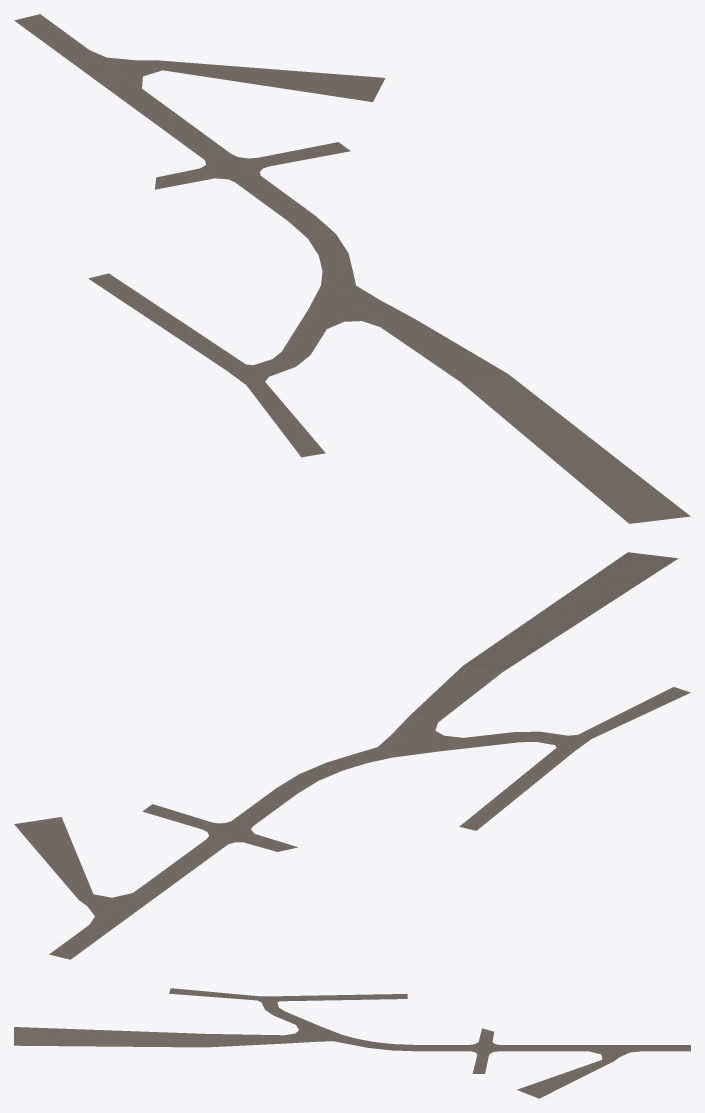
File: Road2.fbx
3 views of the same model, one above another, from view 1: azimuth 30°, elevation 25°; view 2: azimuth 150°, elevation 25°; view 3: azimuth 270°, elevation 25° (orthographic). The views are drawn at different scales.
Visible parts, largest first — view 1: Plane.001; view 2: Plane.001; view 3: Plane.001.
Boxes of the visible parts, bbox=[...] form: Plane.001: bbox=[14, 14, 690, 523]; Plane.001: bbox=[14, 552, 690, 959]; Plane.001: bbox=[14, 988, 690, 1098].
Size of the model in its own units: 33833 by 541 by 87632.
